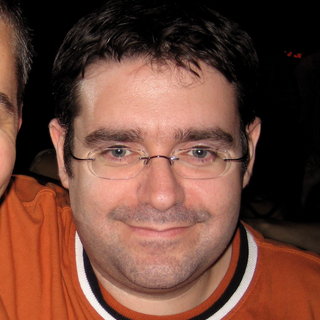eye: (175, 143, 223, 166), (95, 141, 139, 162)
